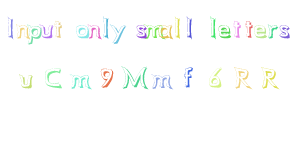6: (207, 66, 224, 88)
9: (99, 67, 114, 89)
C: (43, 66, 64, 88)
I: (4, 15, 20, 40)
M: (121, 64, 149, 91)
R: (261, 66, 280, 90), (233, 66, 252, 89)
a: (158, 23, 173, 40)
e: (218, 22, 232, 39), (253, 23, 267, 38)
f: (181, 65, 195, 89)
l: (183, 16, 196, 40), (101, 14, 111, 39), (207, 15, 217, 39), (173, 16, 182, 38)
m: (151, 73, 174, 91), (70, 73, 91, 89), (144, 23, 162, 39)
n: (87, 22, 102, 41), (15, 23, 30, 40)
o: (74, 24, 90, 39)
p: (25, 23, 43, 45)
r: (266, 23, 278, 38)
s: (279, 23, 291, 40), (135, 23, 147, 39)
t: (53, 19, 63, 39), (243, 20, 254, 38), (232, 19, 242, 38)
u: (18, 72, 34, 89), (39, 23, 54, 40)
y: (110, 21, 126, 44)
